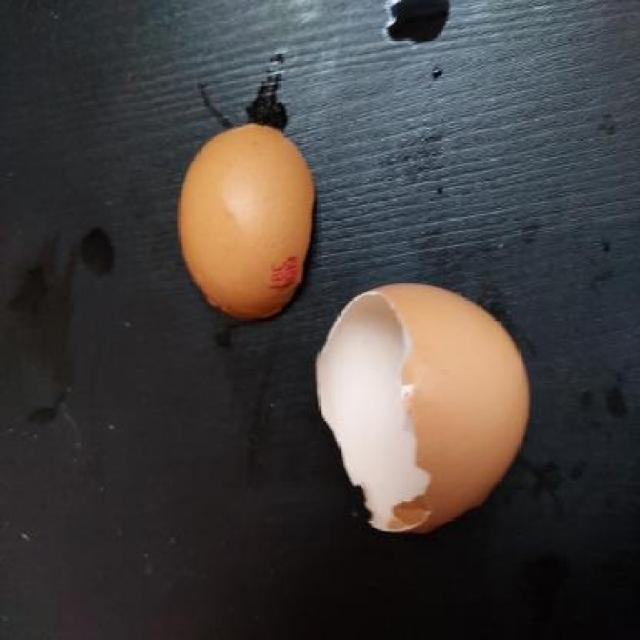biodegradable: (314, 285, 536, 533), (171, 120, 315, 320)
